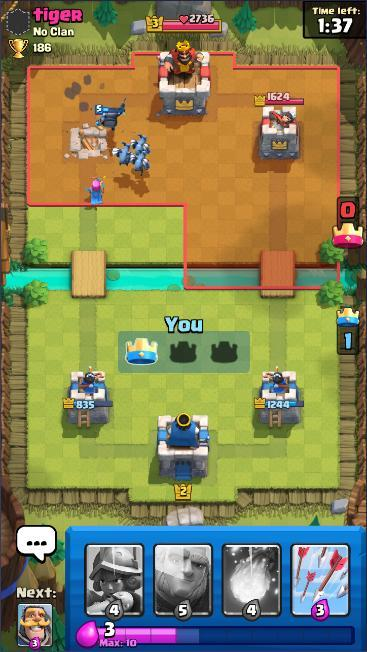ally_archer: (85, 173, 109, 207)
ally_mini_pekka: (94, 96, 128, 133)
ally_minion: (126, 148, 152, 178), (111, 139, 137, 168), (129, 132, 152, 160)
